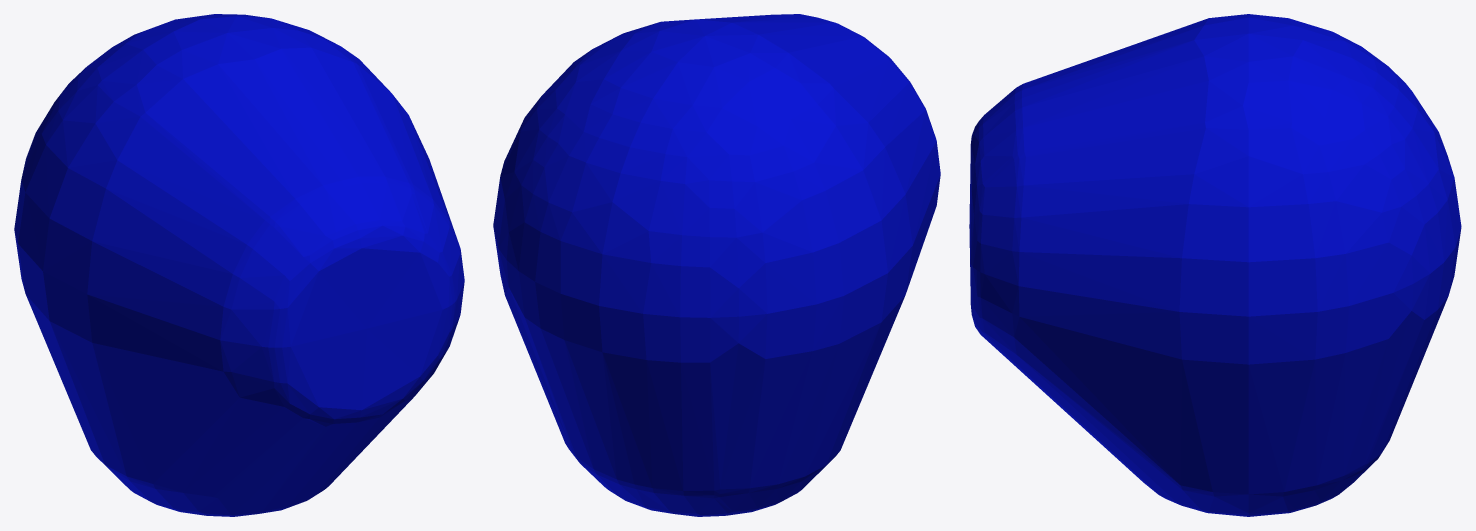
File: COL_hollie_real_000_collision.dae
The picture shows the model from 3 angles, left to right: view 1: azimuth 30°, elevation 25°; view 2: azimuth 150°, elevation 25°; view 3: azimuth 270°, elevation 25°; orthographic projection.
Parts seen in each view (by area): view 1: COL_hollie_real_000_collision; view 2: COL_hollie_real_000_collision; view 3: COL_hollie_real_000_collision.
Boxes of the visible parts, x1=… form: COL_hollie_real_000_collision: x1=14, y1=14, x2=464, y2=516; COL_hollie_real_000_collision: x1=493, y1=14, x2=940, y2=516; COL_hollie_real_000_collision: x1=969, y1=14, x2=1461, y2=516.
Size of the model in its own units: 0.1847 by 0.2138 by 0.2138.
